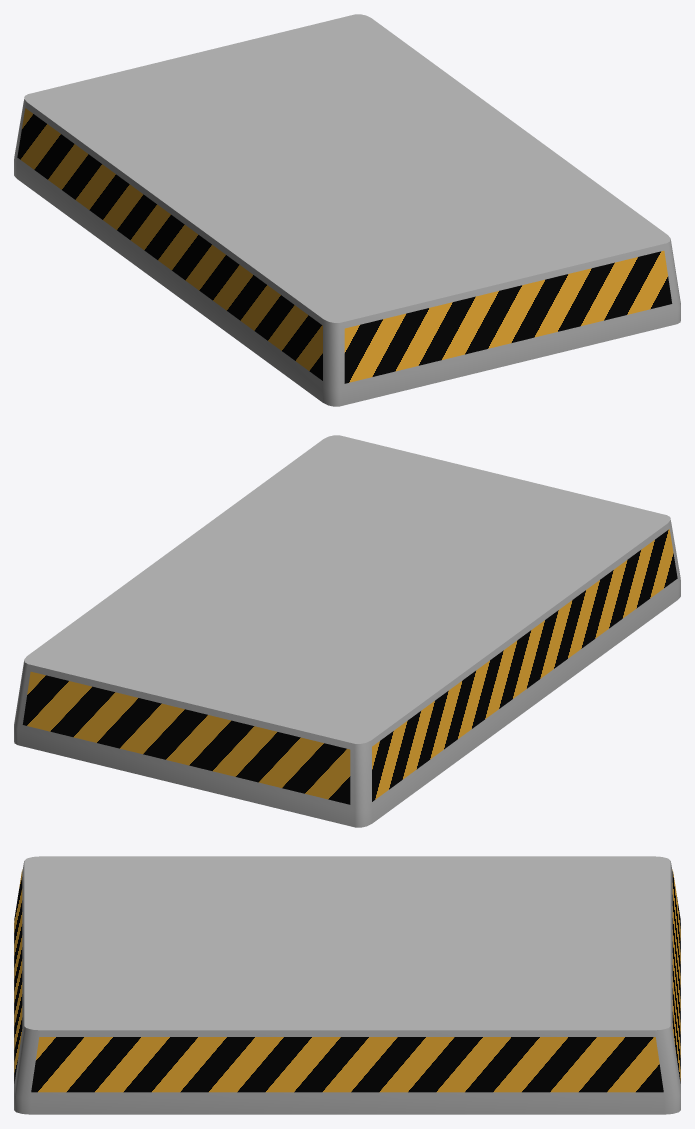
File: oerk-lamp-barrier.gltf
The picture shows the model from 3 angles, top to bottom: view 1: azimuth 30°, elevation 25°; view 2: azimuth 150°, elevation 25°; view 3: azimuth 270°, elevation 25°; orthographic projection. The views are drawn at different scales.
Parts seen in each view (by area): view 1: Cube, Cube.001; view 2: Cube, Cube.001; view 3: Cube, Cube.001.
Part boxes in pixels (x1,y1,x2,y2): Cube: (14,14,680,406); Cube.001: (17,108,672,383); Cube: (14,435,680,827); Cube.001: (22,529,677,804); Cube: (14,856,680,1114); Cube.001: (14,869,680,1092).
Size of the model in its own units: 4.72 by 1 by 7.42.
Materials: 2 (1 with a texture image).
